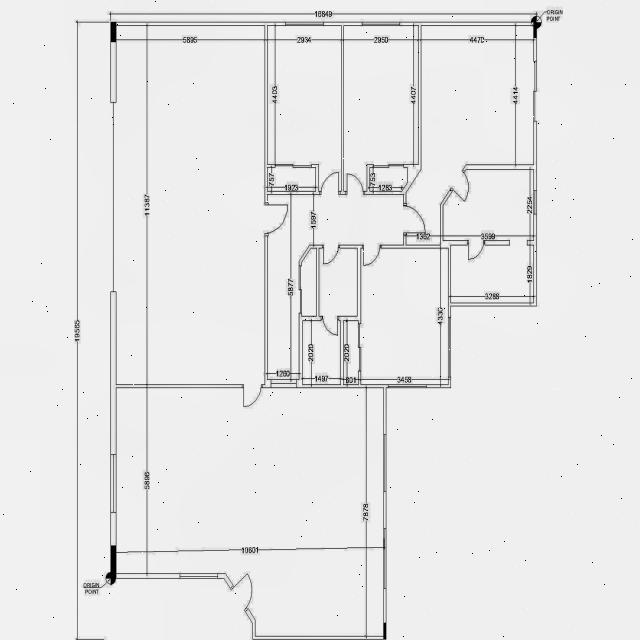Column: (110, 546, 116, 578), (110, 22, 116, 42), (533, 22, 537, 38), (384, 622, 386, 640)
Door: (230, 571, 262, 612), (450, 169, 477, 204), (264, 202, 288, 236), (404, 203, 426, 235), (242, 384, 263, 408), (320, 172, 340, 194), (362, 245, 382, 266), (346, 173, 364, 195), (322, 244, 340, 264), (467, 240, 485, 260), (321, 316, 339, 336)
Sliding Door: (275, 164, 312, 168), (299, 266, 302, 314), (358, 324, 361, 372), (374, 164, 404, 168)
Window: (110, 454, 116, 512), (533, 61, 537, 121), (270, 380, 296, 388), (448, 317, 451, 377), (286, 22, 324, 26), (362, 22, 400, 26), (388, 384, 426, 388), (180, 574, 218, 578), (384, 528, 386, 588), (384, 434, 386, 492), (533, 190, 537, 214)
